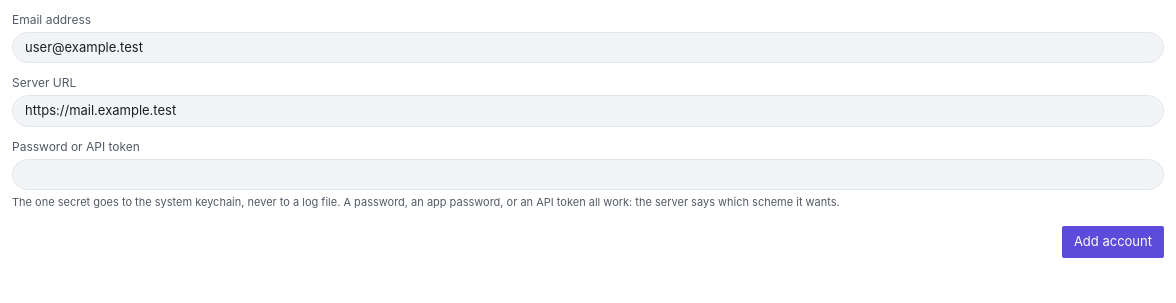
Test: the jmap form › surfaces the host add failure beside the field without closing
Type "wrong" into the password field labelled "Password or API token" at [588, 174], box [12,159,1164,190]
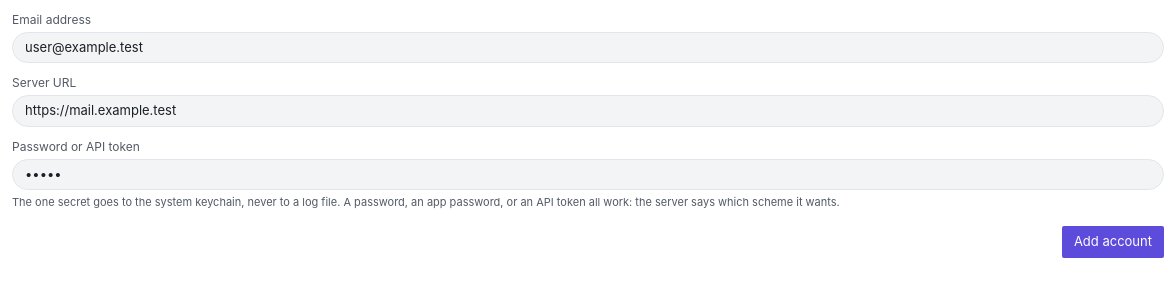
Click the button "Add account" at [1113, 242], box [1062,226,1164,258]
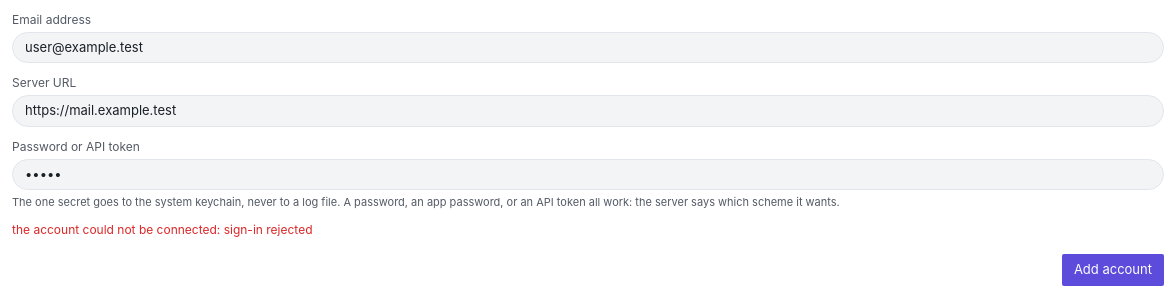
Result: the message shows "sign-in rejected" at [12,222,312,238]
